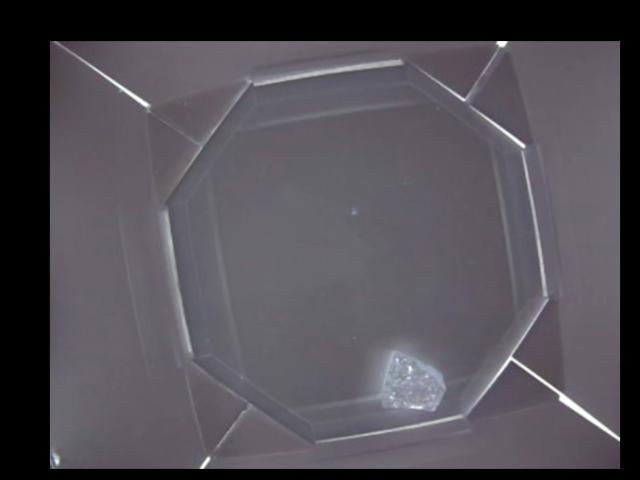China: (382, 353, 447, 412)
